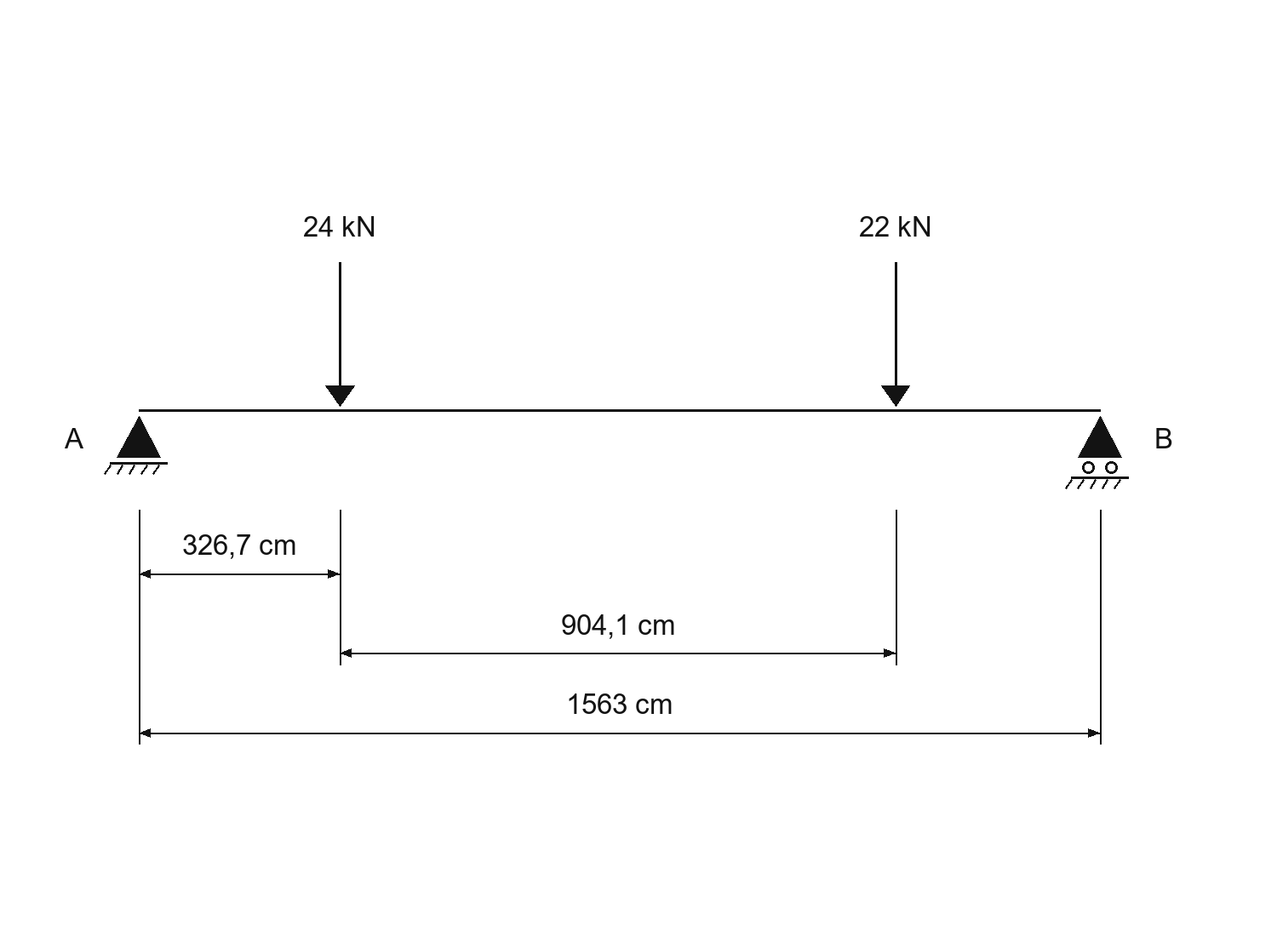pin_support: (104, 416, 168, 475)
point_load: (325, 262, 355, 407), (881, 262, 910, 407)
roller_support: (1065, 416, 1129, 489)
